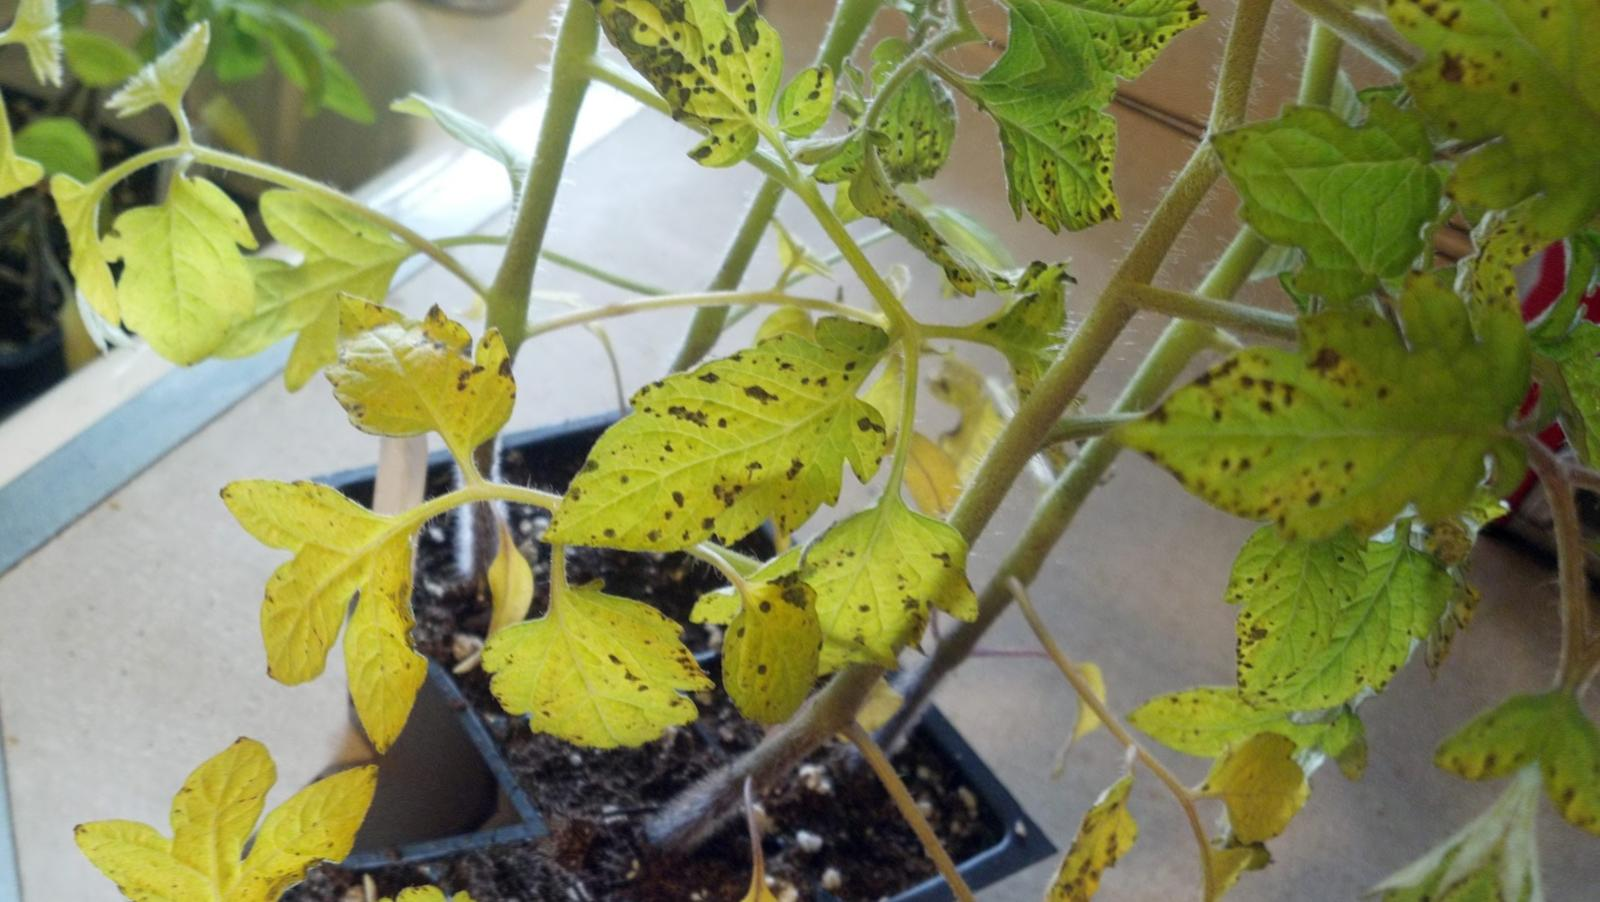Tomato Septoria leaf spot: (1090, 179, 1581, 620), (516, 224, 920, 664), (1153, 448, 1543, 798), (452, 525, 748, 794), (756, 454, 1034, 728), (527, 0, 827, 198), (911, 40, 1171, 250)
